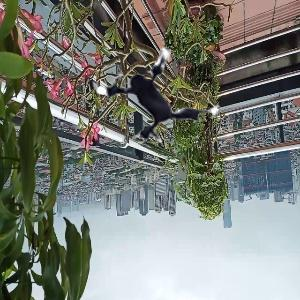drone: (86, 17, 233, 164)
